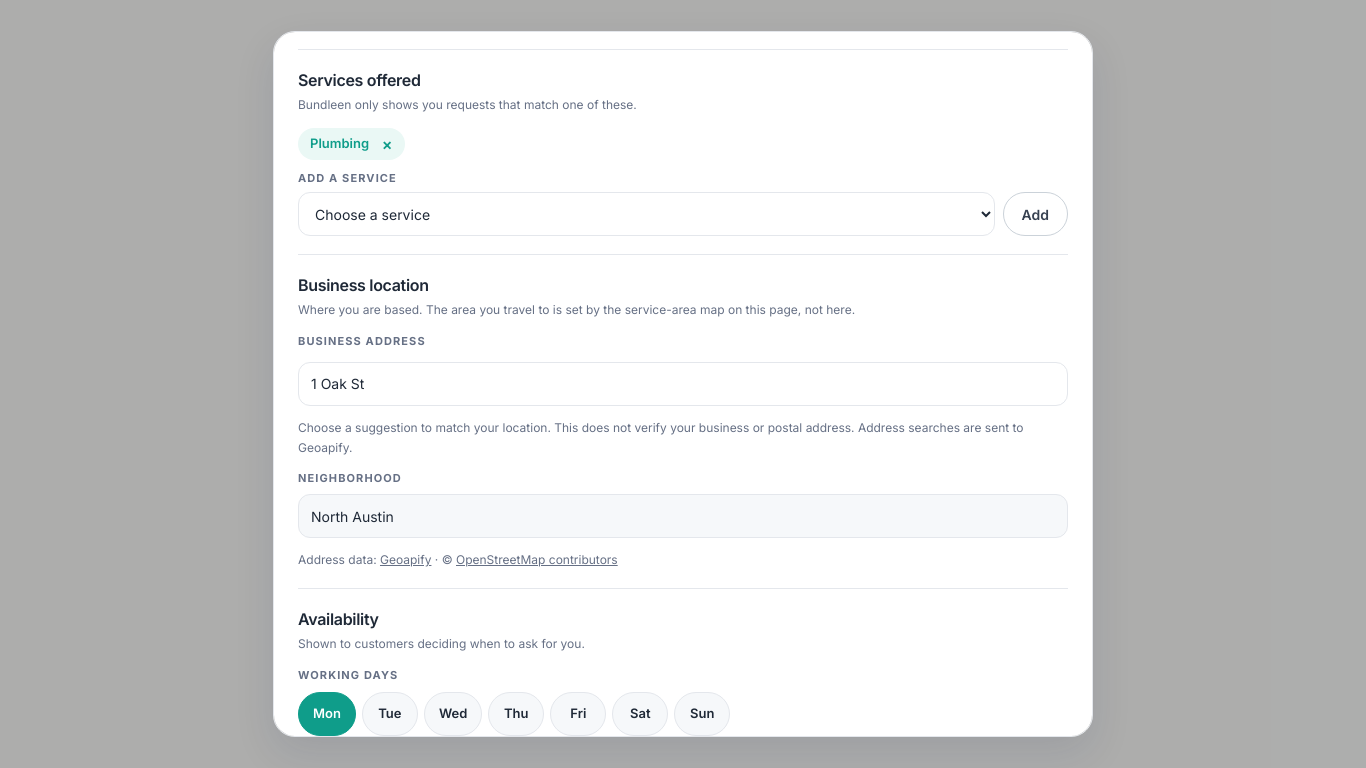
Test: provider business address contract › refuses changed nonempty text without an explicit location choice
This screenshot has width=1366, height=768.
(page scrolled)
Replace the text in the dropdown labelled "Business address" with "Los Angeles address" at {"x": 683, "y": 384}, box [298, 362, 1068, 406]
(page scrolled)
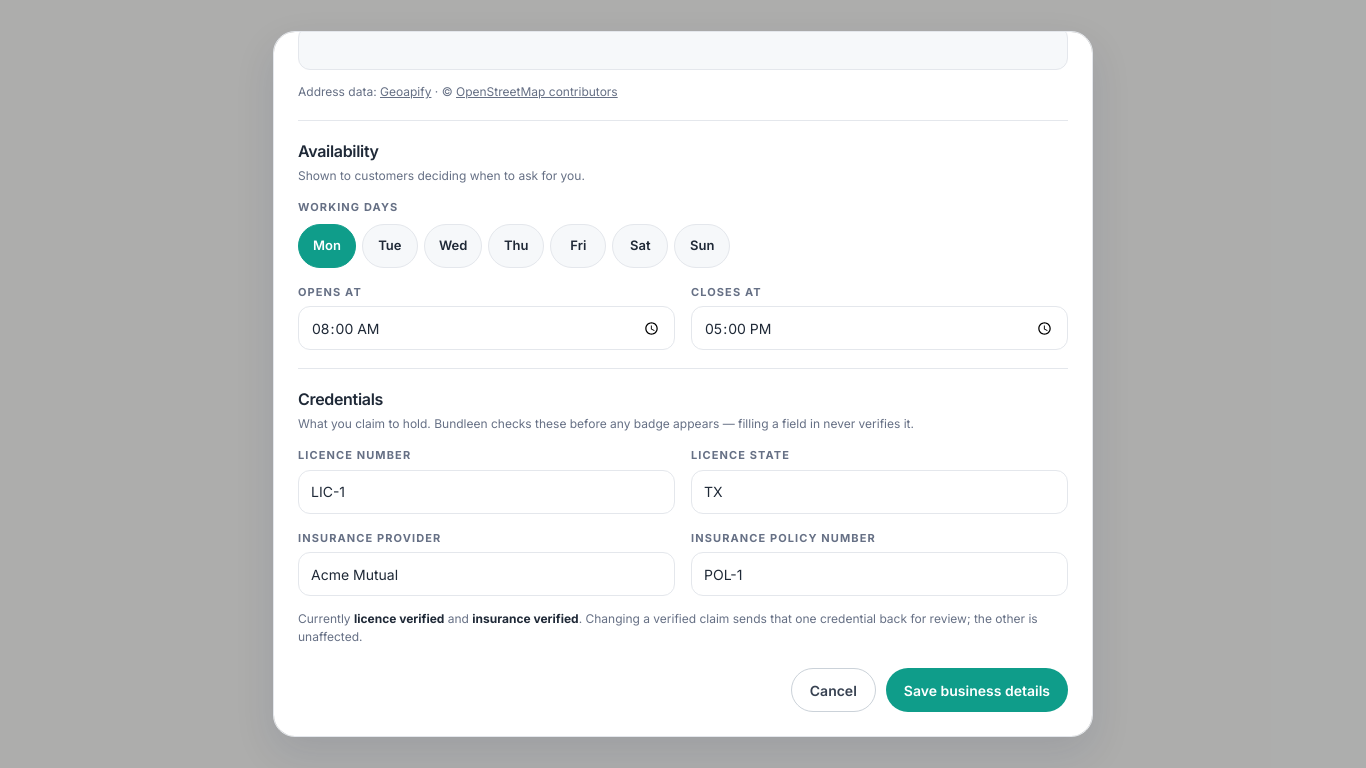
Click the button "Save business details".
click(977, 690)  # box [886, 668, 1068, 712]
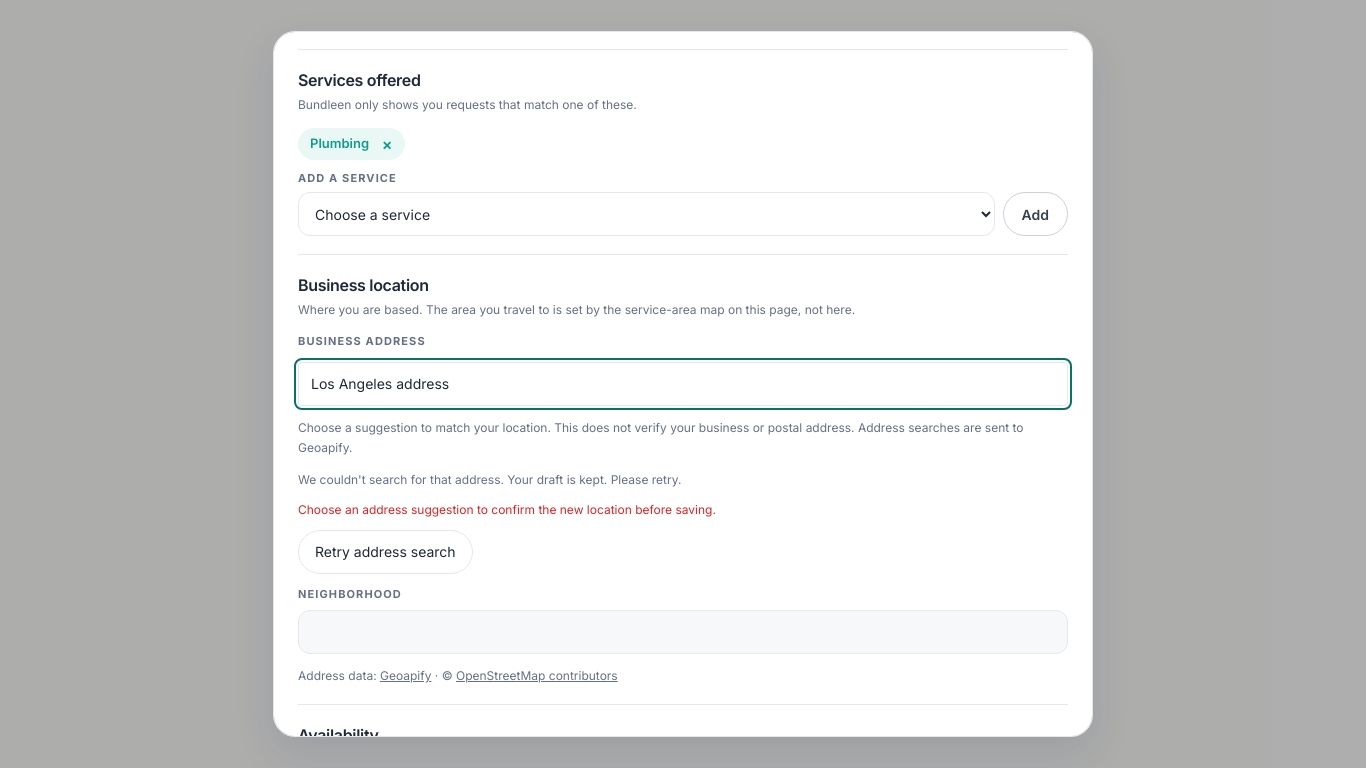
Now the message "Choose an address suggestion to confirm the new location before saving." is shown, box [298, 502, 716, 517]
